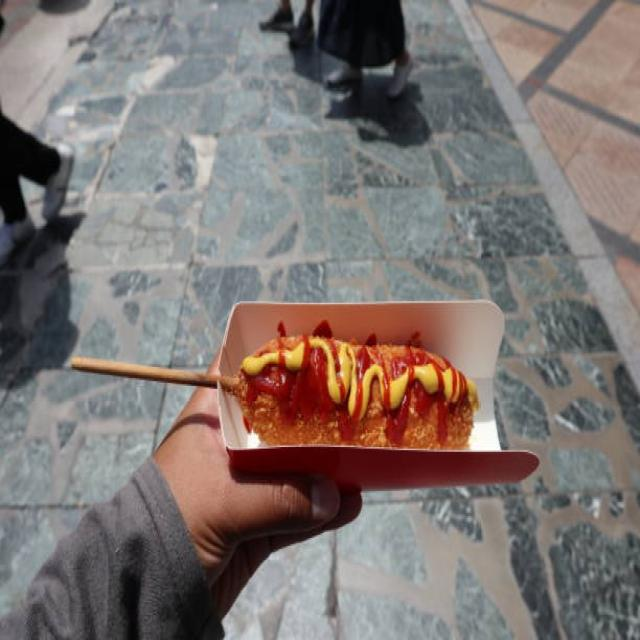Emperan: (0, 265, 546, 640)
